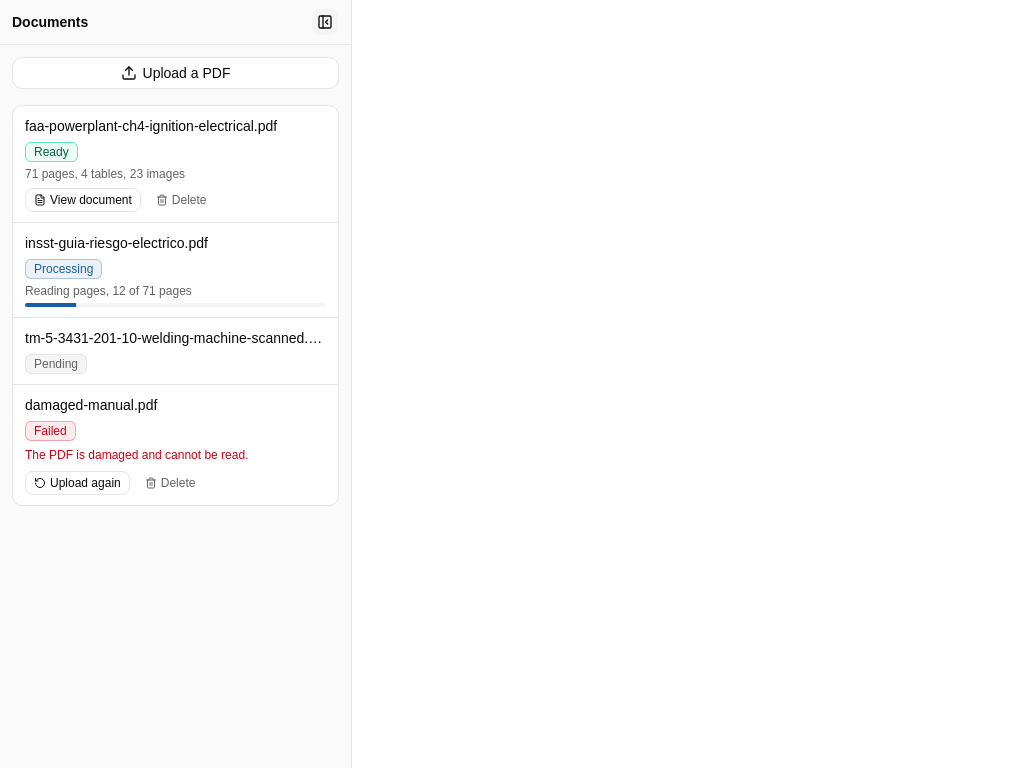
a ready document opens on its first page and steps through all of them
The image size is (1024, 768).
Expected: the number of list items is 4, [13,106,338,223]; [13,223,338,318]; [13,318,338,385]; [25,397,248,495]
Click the button "View document": (83, 200) [25,188,141,212]
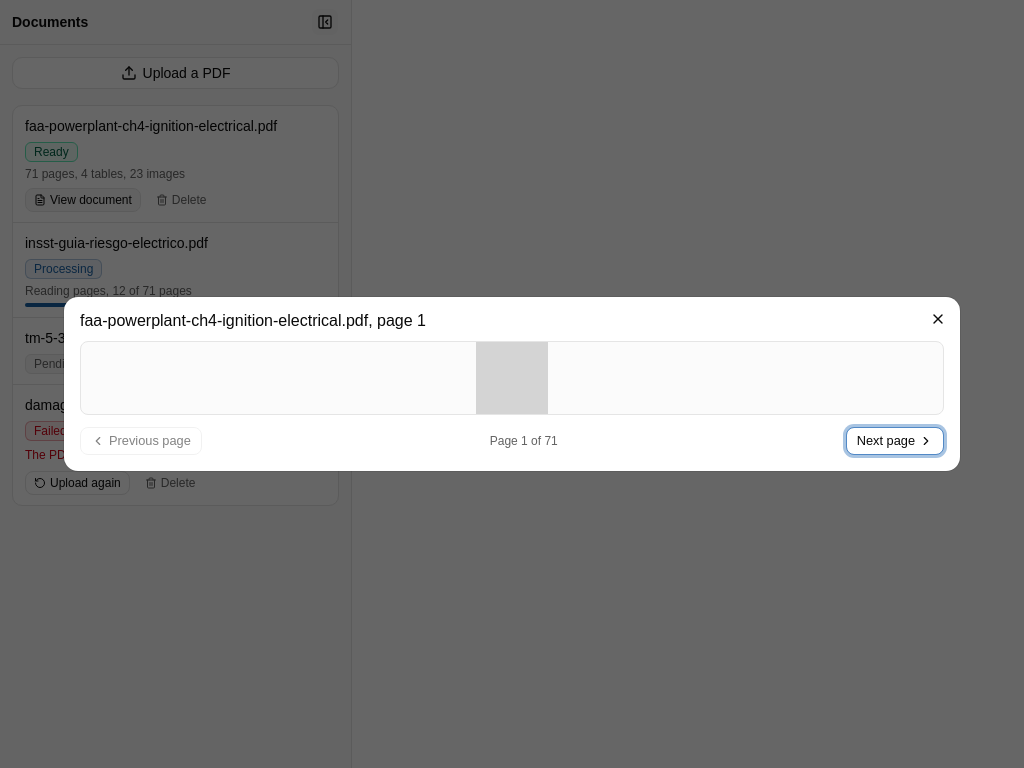
Expected: the text "Page 1 of 71" is shown, [490,433,558,449]
